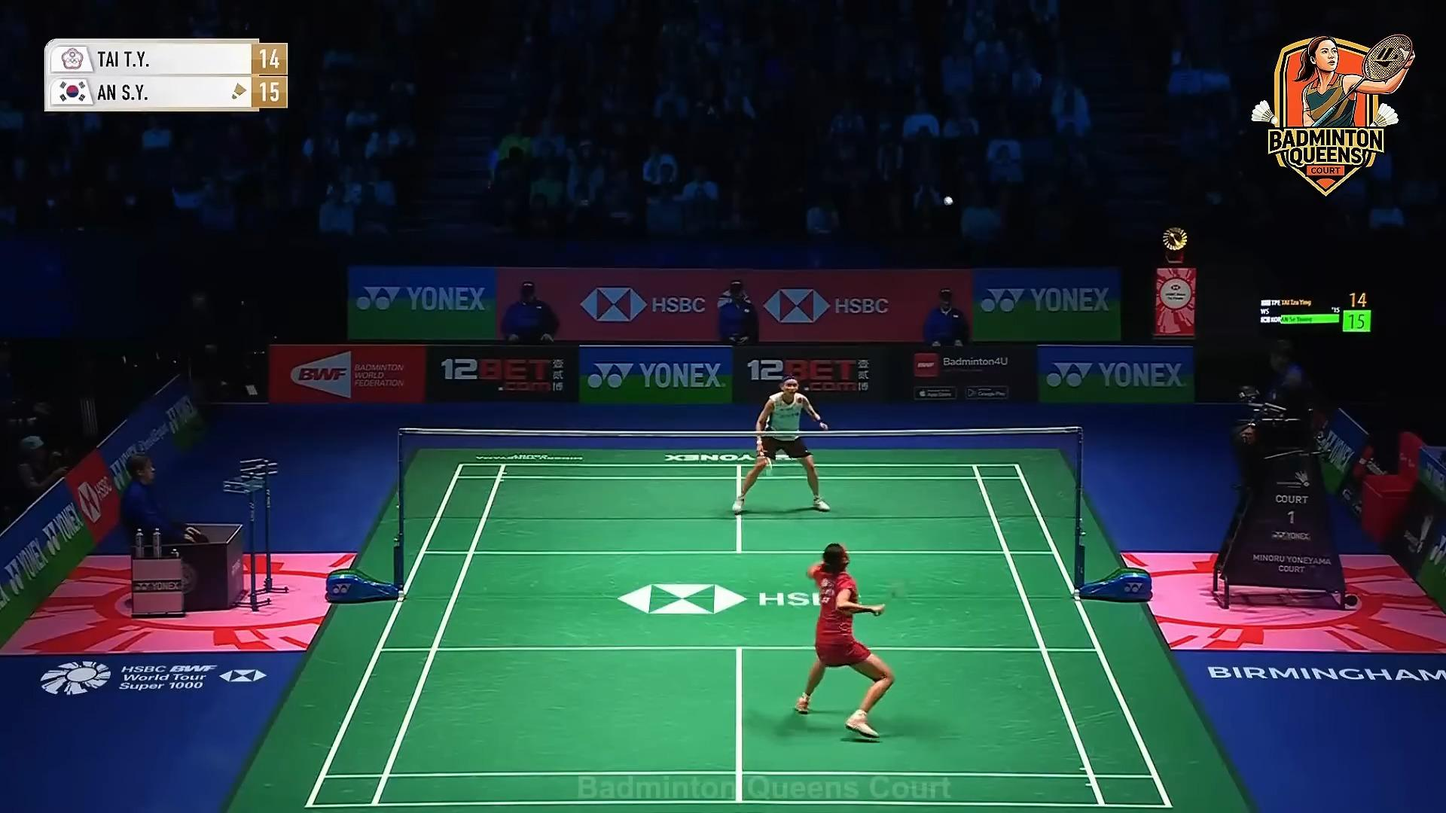player: (795, 542, 894, 738), (732, 372, 831, 514)
